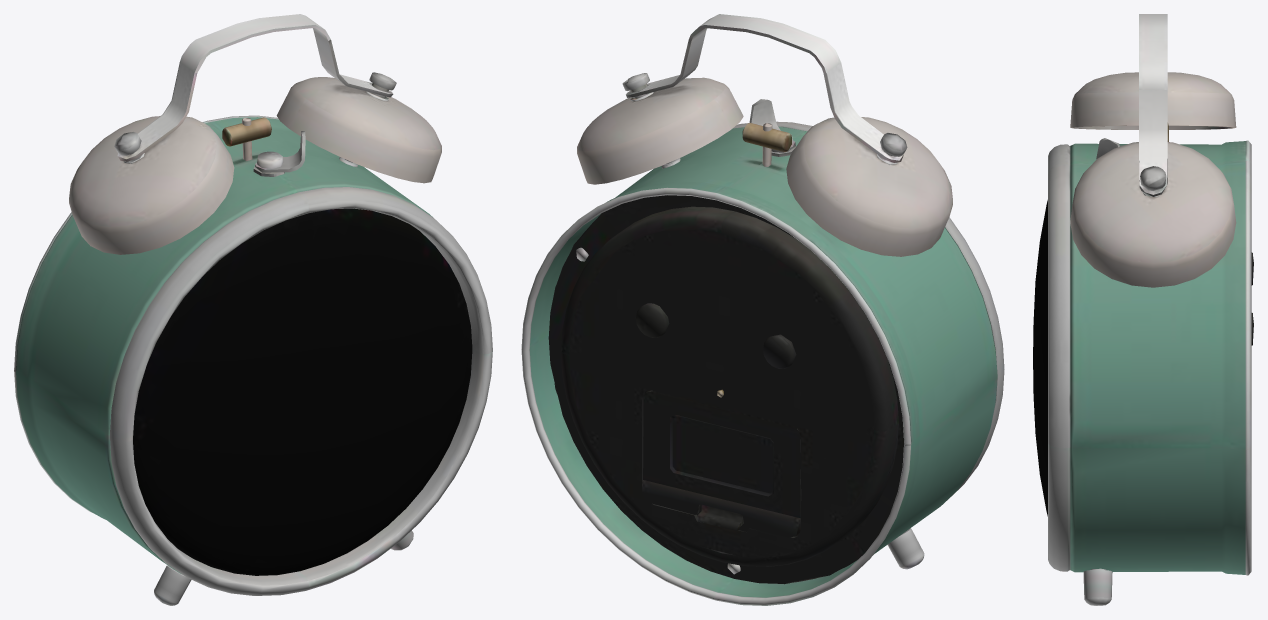
The model's file is alarmClock.glb.
3 renders of one model, left to right at view 1: azimuth 30°, elevation 25°; view 2: azimuth 150°, elevation 25°; view 3: azimuth 270°, elevation 25°, orthographic. The views are drawn at different scales.
Parts seen in each view (by area): view 1: alarm_clock_01; view 2: alarm_clock_01; view 3: alarm_clock_01.
Boxes of the visible parts, x1,y1,x2,y2 form: alarm_clock_01: (14, 14, 492, 605); alarm_clock_01: (521, 14, 1004, 605); alarm_clock_01: (1033, 14, 1253, 605).
Bounding box in the file's own units: 0.1316 × 0.1741 × 0.0667.
2 materials, 2 textured.
